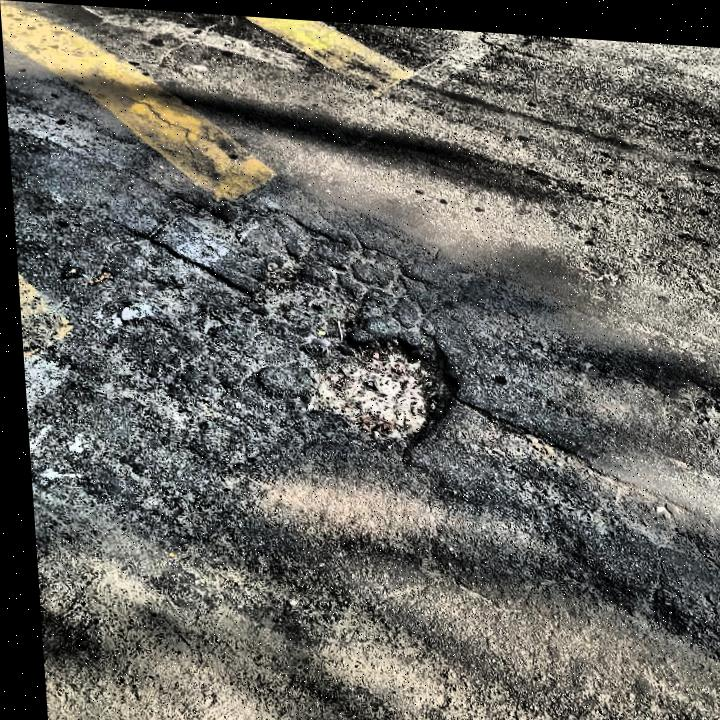pothole: (290, 317, 461, 447), (243, 259, 360, 330), (166, 190, 230, 237)
